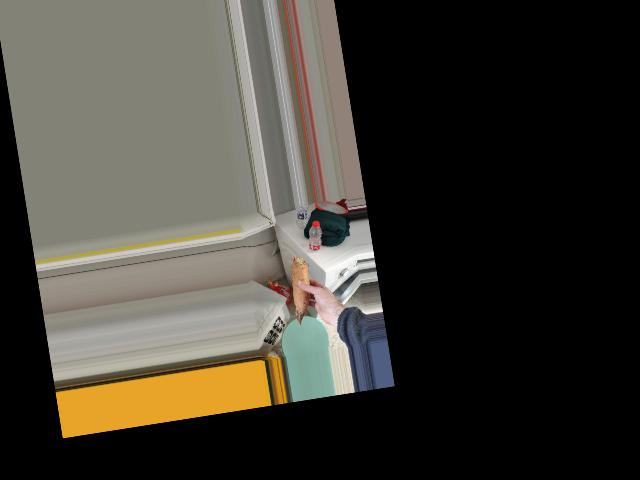sweet_potato: (288, 252, 314, 325)
